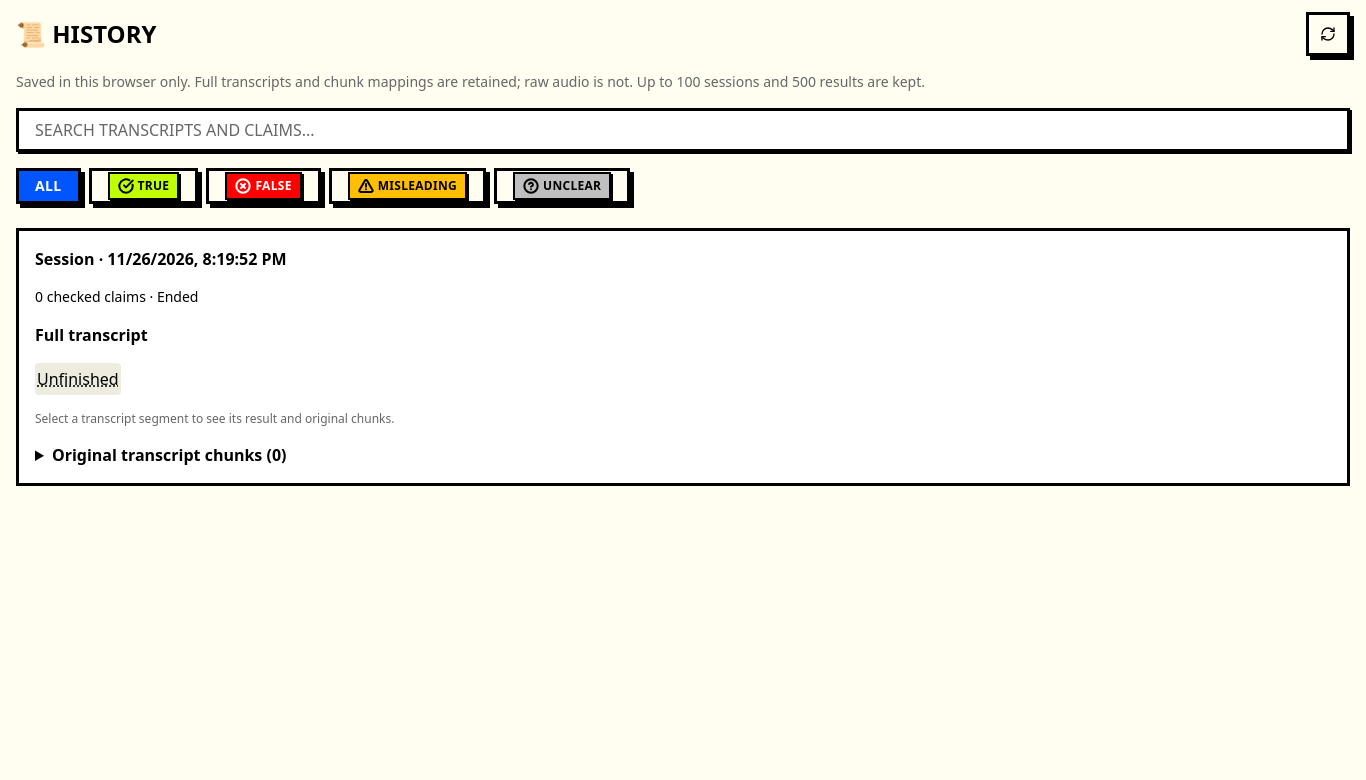
it: session history › explains interrupted segments in ended sessions
This screenshot has width=1366, height=780.
Click the button with aria-label "Segment 1: Unfinished": (78, 379) [35,363,121,395]
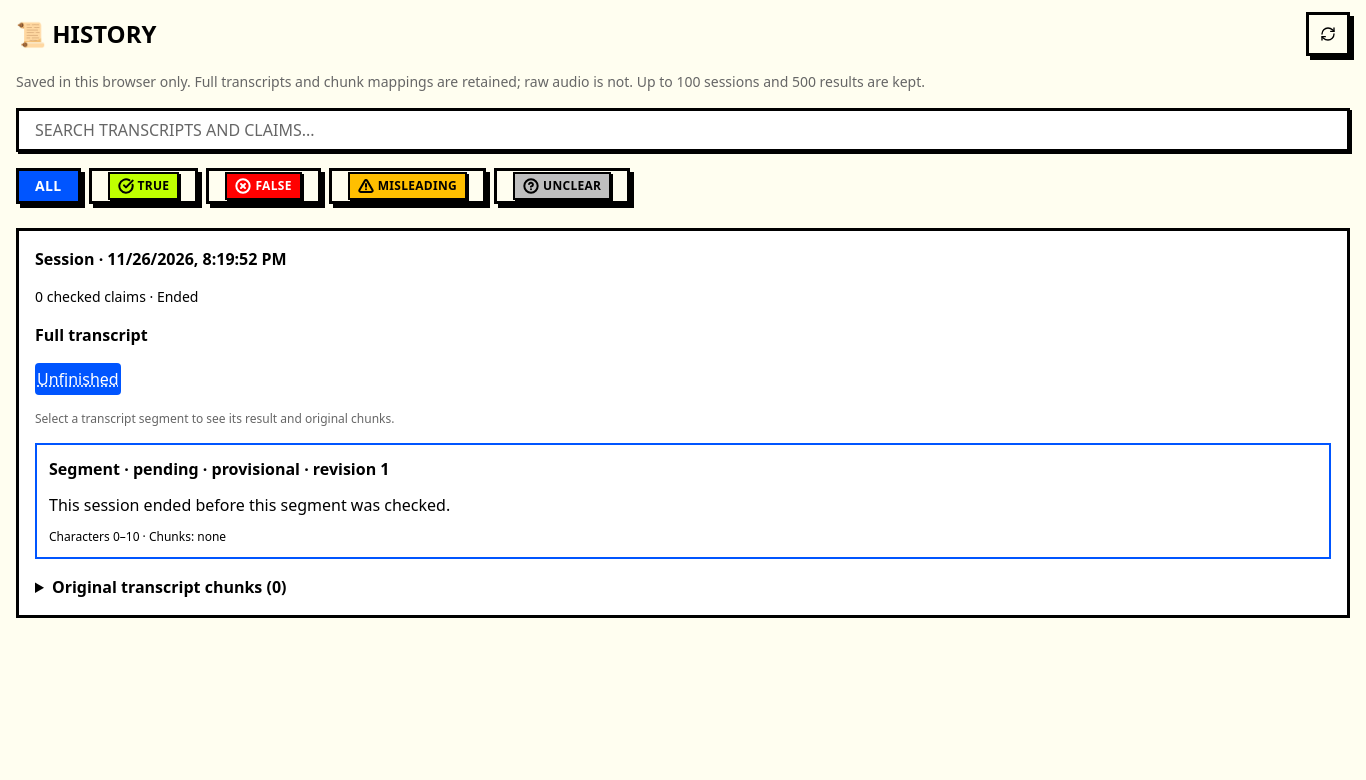
Check: the text "This session ended before this segment was checked." is shown, box [49,494,450,516]
